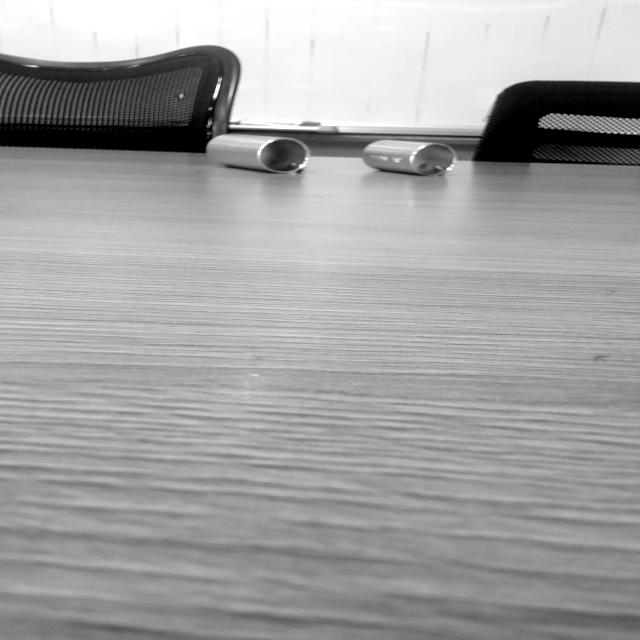Co_Lon: (204, 130, 311, 177)
Co_Nho: (360, 136, 458, 179)
